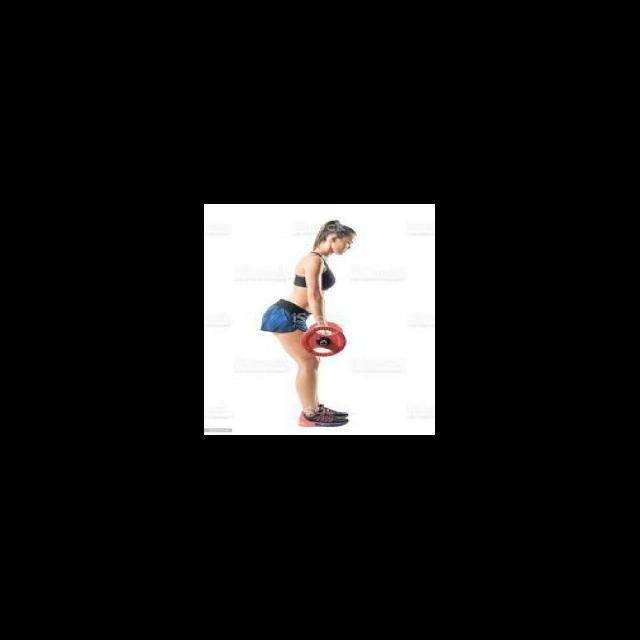barbell: (296, 322, 352, 359)
